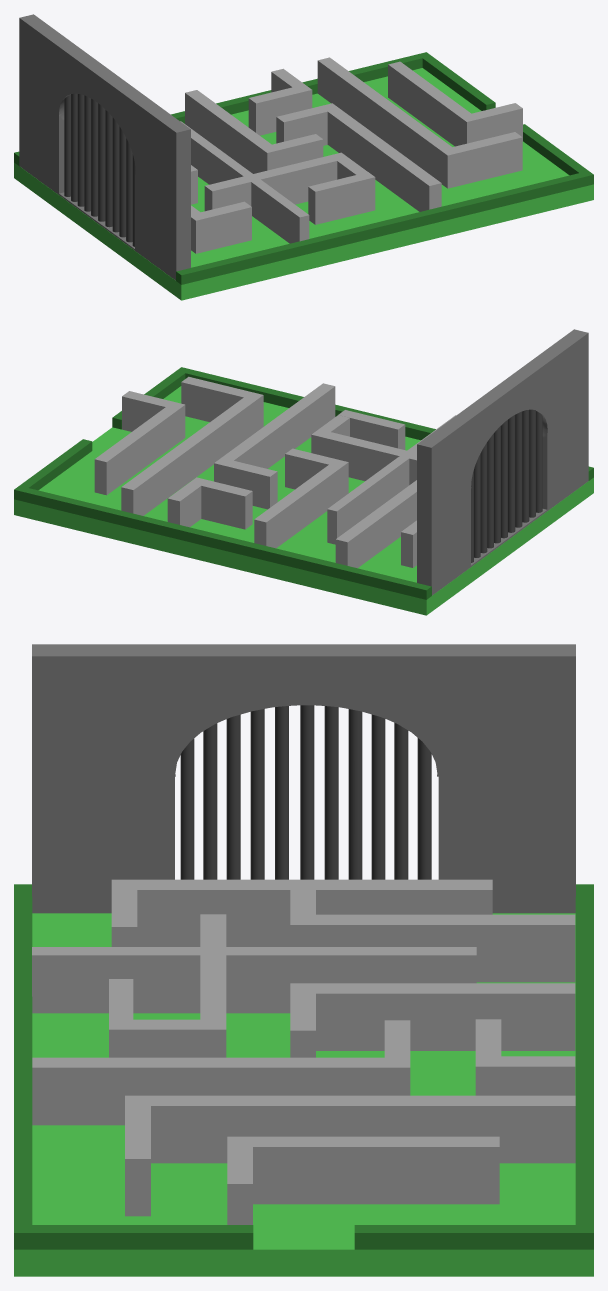
The picture shows the model from 3 angles, top to bottom: view 1: azimuth 30°, elevation 25°; view 2: azimuth 150°, elevation 25°; view 3: azimuth 270°, elevation 25°; orthographic projection. The views are drawn at different scales.
Parts seen in each view (by area): view 1: pCube7, pCube6, pasted__pCube11 (×2), pCube10, pasted__pasted__pasted__pCube11 (×2), pCube11, pasted__pasted__pCube11, pasted__pasted__pasted__pCylinder2 (×5), pasted__pasted__pCylinder2 (×4), pasted__pasted__pasted__pasted__pCube11, pasted__pCylinder2; view 2: pCube7, pCube6, pasted__pCube11 (×2), pasted__pasted__pasted__pCube11 (×2), pCube10, pCube11, pasted__pasted__pCube11, pasted__pasted__pasted__pCylinder2 (×5), pasted__pasted__pasted__pasted__pCube11 (×2), pasted__pasted__pCylinder2 (×4), pasted__pCylinder2; view 3: pCube6, pCube7, pasted__pasted__pasted__pasted__pCube11 (×2), pCube10, pasted__pCube11 (×2), pasted__pasted__pasted__pCube11 (×2), pasted__pasted__pCube11, pCube11, pasted__pasted__pasted__pCylinder2 (×6), pasted__pasted__pCylinder2 (×4), pasted__pCylinder2.
Part boxes in pixels (x1,y1,x2,y2): pCube7: [14, 52, 593, 300]; pCube6: [19, 14, 190, 280]; pasted__pCube11 (×2): [308, 57, 522, 224]; pCube10: [180, 121, 367, 243]; pasted__pasted__pasted__pCube11 (×2): [185, 68, 323, 173]; pCube11: [276, 103, 441, 211]; pasted__pasted__pCube11: [388, 61, 522, 146]; pasted__pasted__pasted__pCylinder2 (×5): [64, 94, 125, 237]; pasted__pasted__pCylinder2 (×4): [84, 95, 132, 242]; pasted__pasted__pasted__pasted__pCube11: [191, 201, 251, 253]; pasted__pCylinder2: [71, 93, 77, 201]; pCube7: [14, 367, 593, 615]; pCube6: [417, 329, 588, 595]; pasted__pCube11 (×2): [121, 376, 405, 515]; pasted__pasted__pasted__pCube11 (×2): [167, 448, 348, 548]; pCube10: [311, 415, 455, 544]; pCube11: [214, 383, 335, 509]; pasted__pasted__pCube11: [94, 391, 185, 495]; pasted__pasted__pasted__pCylinder2 (×5): [480, 410, 542, 553]; pasted__pasted__pasted__pasted__pCube11 (×2): [335, 480, 416, 568]; pasted__pasted__pCylinder2 (×4): [487, 409, 535, 548]; pasted__pCylinder2: [474, 454, 480, 557]; pCube6: [32, 644, 575, 913]; pCube7: [14, 884, 593, 1276]; pasted__pasted__pasted__pasted__pCube11 (×2): [111, 879, 575, 982]; pCube10: [32, 914, 476, 1057]; pasted__pCube11 (×2): [109, 979, 575, 1216]; pasted__pasted__pasted__pCube11 (×2): [290, 983, 575, 1095]; pasted__pasted__pCube11: [227, 1136, 499, 1224]; pCube11: [32, 1020, 410, 1125]; pasted__pasted__pasted__pCylinder2 (×6): [180, 706, 431, 879]; pasted__pasted__pCylinder2 (×4): [203, 705, 362, 879]; pasted__pCylinder2: [394, 723, 408, 879].
Size of the model in its own units: 22.4 by 8.51 by 15.75.
